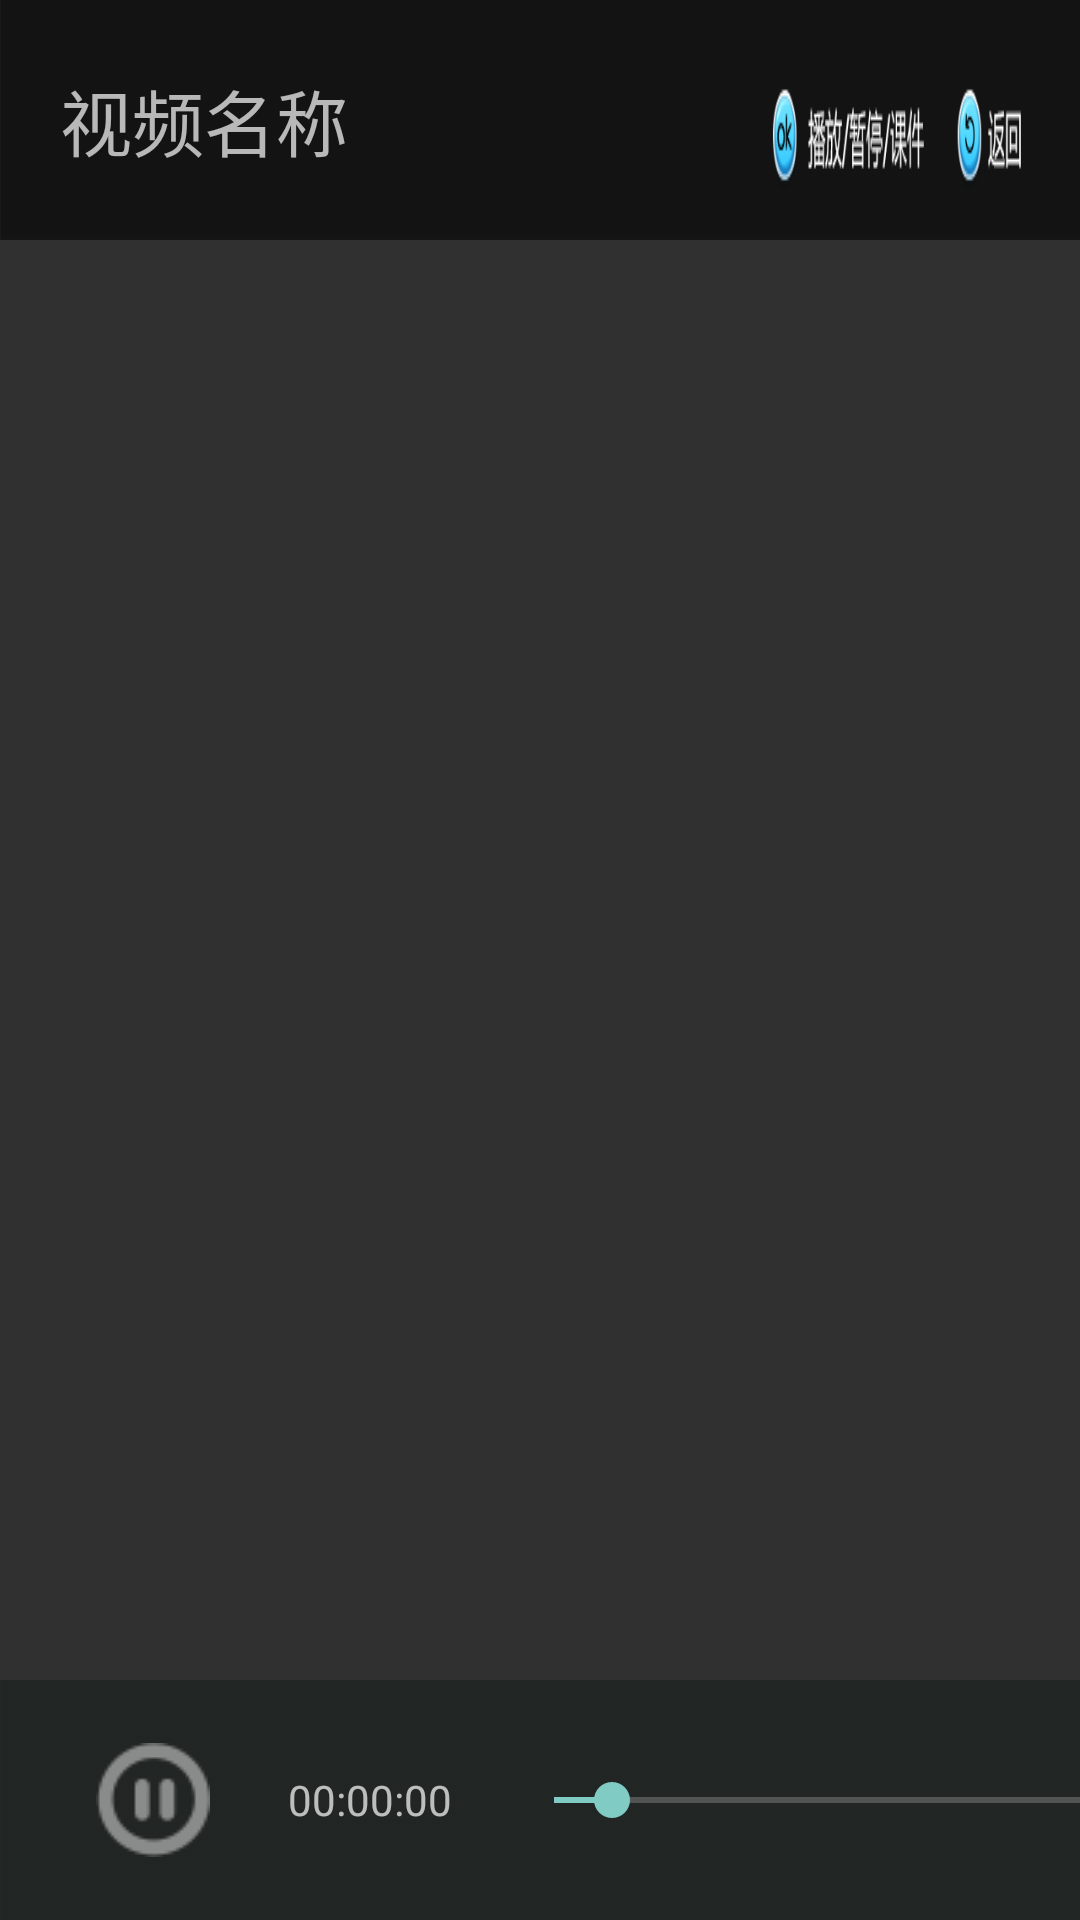

Named icons in this screenshot (1080×1920) and their centers, point (x, y):
pause: point (154, 1800)
